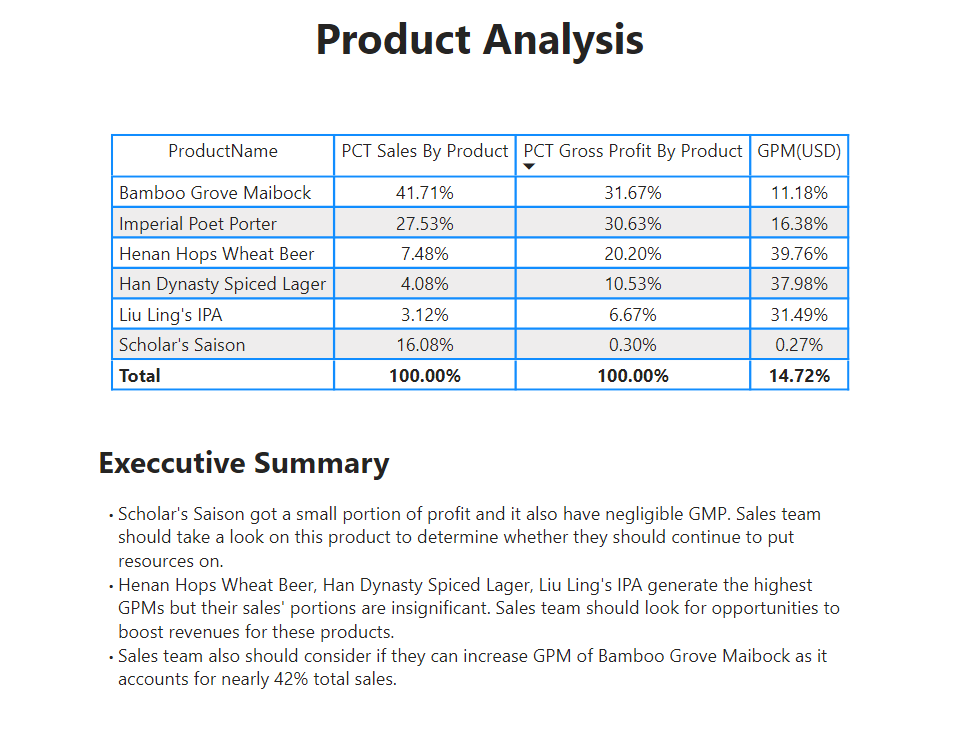

This screenshot's page, from the dashboard's own definition file:
{"tool":"powerbi","page":{"name":"Gross Profit and Unit Sales","canvas":[1280,720],"ordinal":1},"visuals":[{"type":"tableEx","fields":{"Values":["Products.ProductName","Monthly Sales Logs.PCT Sales By Product","Monthly Sales Logs.PCT Gross Profit By Product","Monthly Sales Logs.GPM(USD)"]},"box":[219.9,138.3,766.1,272.2],"z":0},{"type":"textbox","box":[209.3,410.5,670.3,256.3],"z":1000},{"type":"textbox","box":[401.7,27.5,336.9,87.8],"z":2000}]}

Visuals, with their boxes on the page's 1280x720 design canvas (x1, y1, x2, y2). These are canvas units, not pixel positions in the 976x729 screenshot, which may show the page scaled, cropped or inside an application window:
tableEx - Products.ProductName x Monthly Sales Logs.PCT Sales By Product: {"x1": 220, "y1": 138, "x2": 986, "y2": 410}
textbox: {"x1": 209, "y1": 410, "x2": 880, "y2": 667}
textbox: {"x1": 402, "y1": 28, "x2": 739, "y2": 115}
